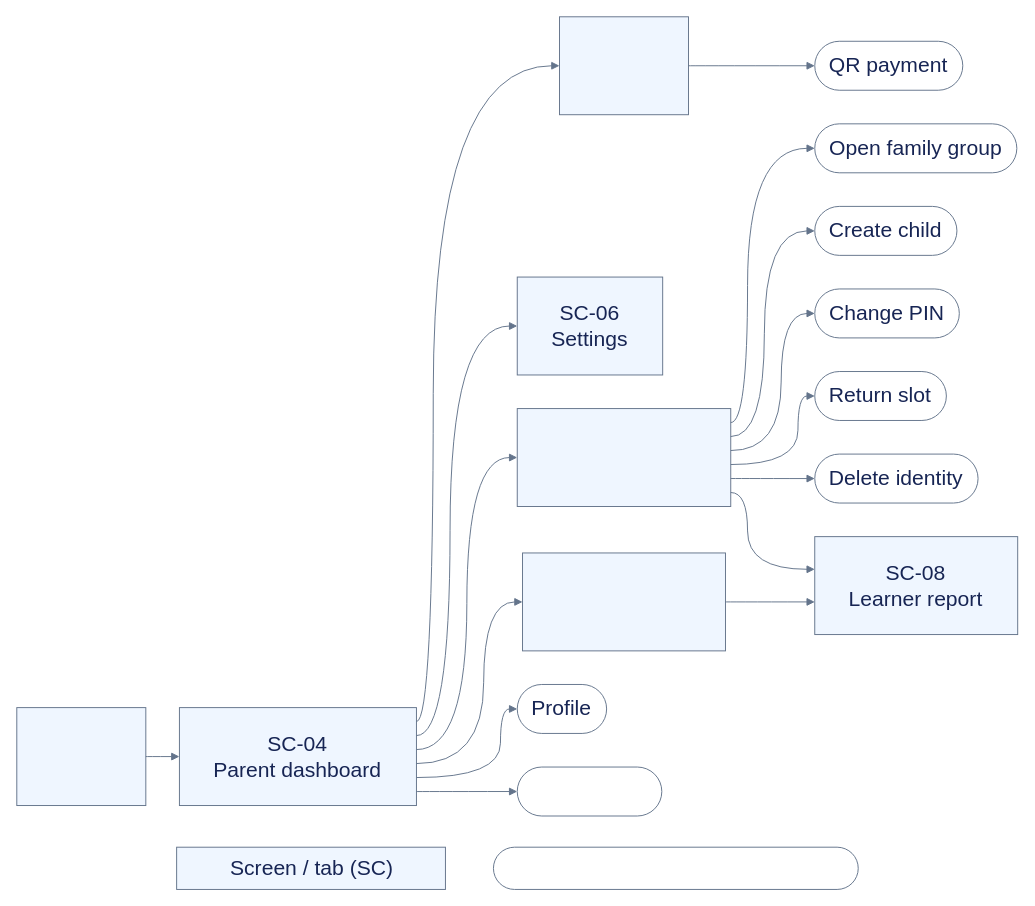
The diagram is 1035 pixels wide and 906 high, and some of its shapes have lost their labels. Here are the shapes that lost their labels. From the top down, the box of each, then its label:
(559, 16, 689, 115): SC-05 Plans
(516, 408, 731, 506): SC-07 Parent learners
(522, 552, 725, 651): SC-09 Parent reports
(16, 707, 146, 806): SC-02 Login
(516, 766, 662, 816): Notifications
(492, 846, 858, 889): Action / form / dialog
